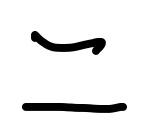eqv: (20, 27, 130, 113)
